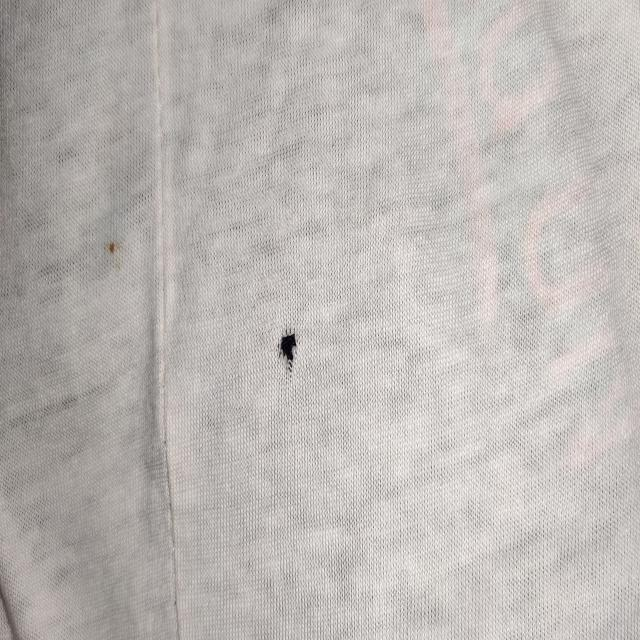Hole: (277, 329, 298, 378), (103, 240, 121, 270)
Line: (158, 0, 185, 640)
